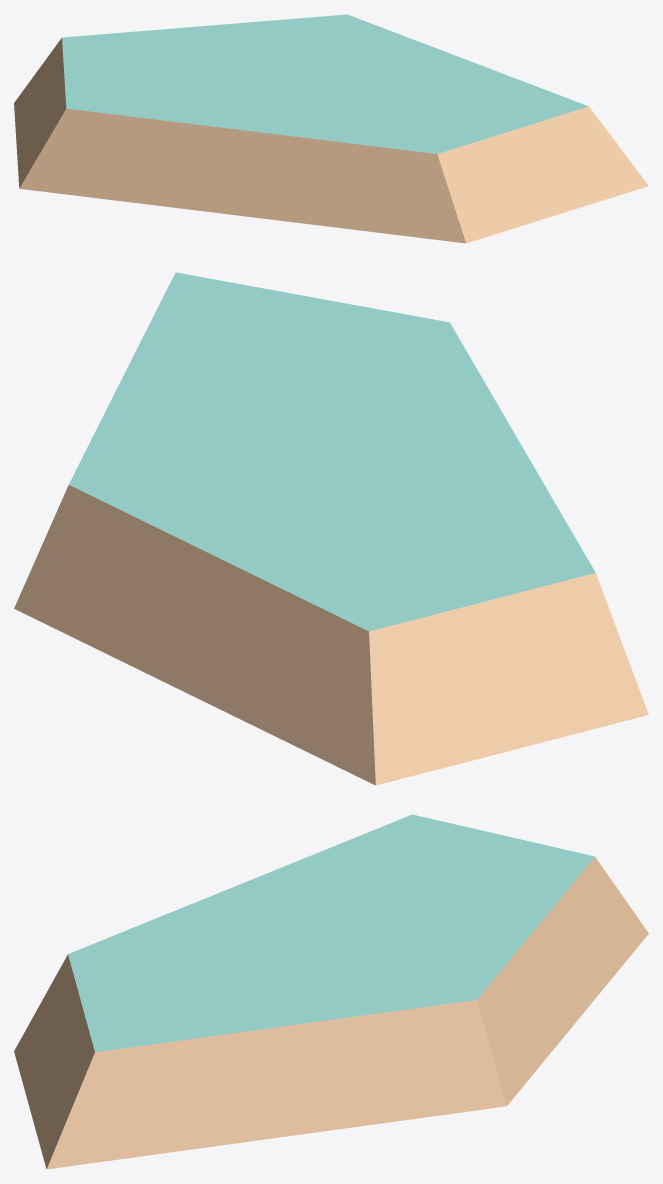
Rendered from nature-kit-classic--rock-smallflat2.glb.
3 views of the same model, one above another, from view 1: azimuth 30°, elevation 25°; view 2: azimuth 150°, elevation 25°; view 3: azimuth 270°, elevation 25° (orthographic). The views are drawn at different scales.
Visible parts, largest first — view 1: rock_smallFlat2; view 2: rock_smallFlat2; view 3: rock_smallFlat2.
Boxes of the visible parts, x1,y1,x2,y2 form: rock_smallFlat2: [14, 14, 648, 243]; rock_smallFlat2: [14, 272, 648, 785]; rock_smallFlat2: [14, 814, 648, 1169].
Bounding box in the file's own units: 0.4295 × 0.0649 × 0.4024.
